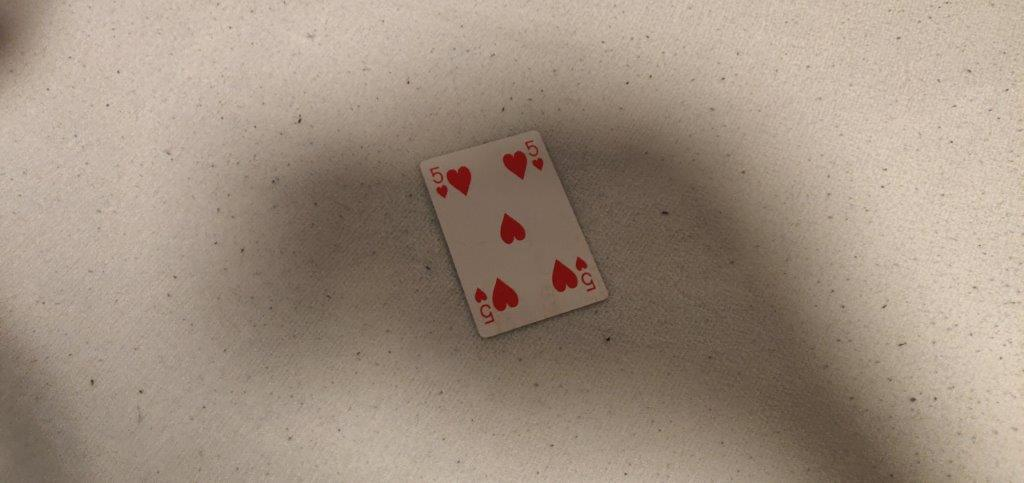5H: (427, 163, 451, 202), (525, 135, 545, 171)
